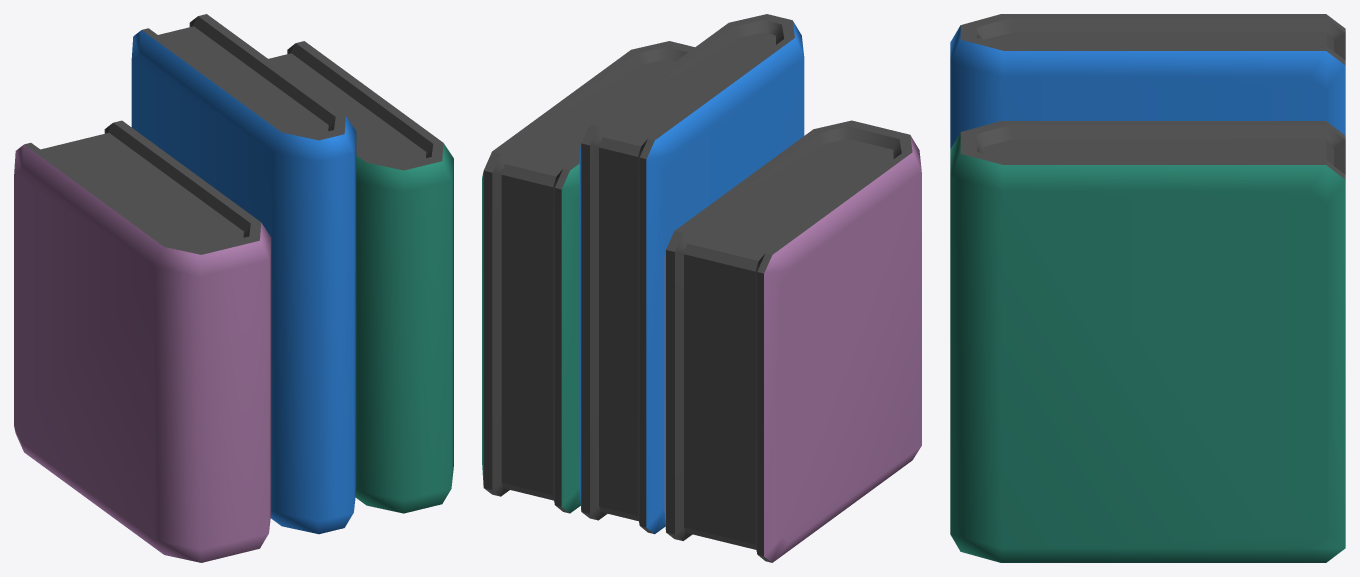
3 renders of one model, left to right at view 1: azimuth 30°, elevation 25°; view 2: azimuth 150°, elevation 25°; view 3: azimuth 270°, elevation 25°, orthographic. The views are drawn at different scales.
Visible parts, largest first — view 1: Obj3d66-4843731-16-347; view 2: Obj3d66-4843731-16-347; view 3: Obj3d66-4843731-16-347.
Part boxes in pixels (left/top/right/bottom): Obj3d66-4843731-16-347: left=14, top=14, right=453, bottom=562; Obj3d66-4843731-16-347: left=482, top=14, right=921, bottom=562; Obj3d66-4843731-16-347: left=950, top=14, right=1345, bottom=562.
Size of the model in its own units: 6290 by 7890 by 6190.
